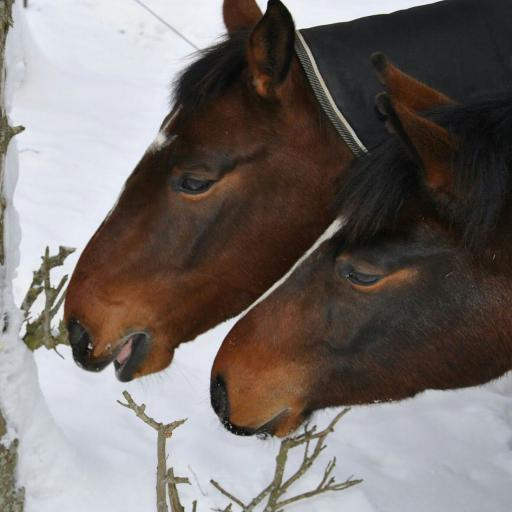horse: (62, 0, 512, 394), (198, 50, 512, 442)
